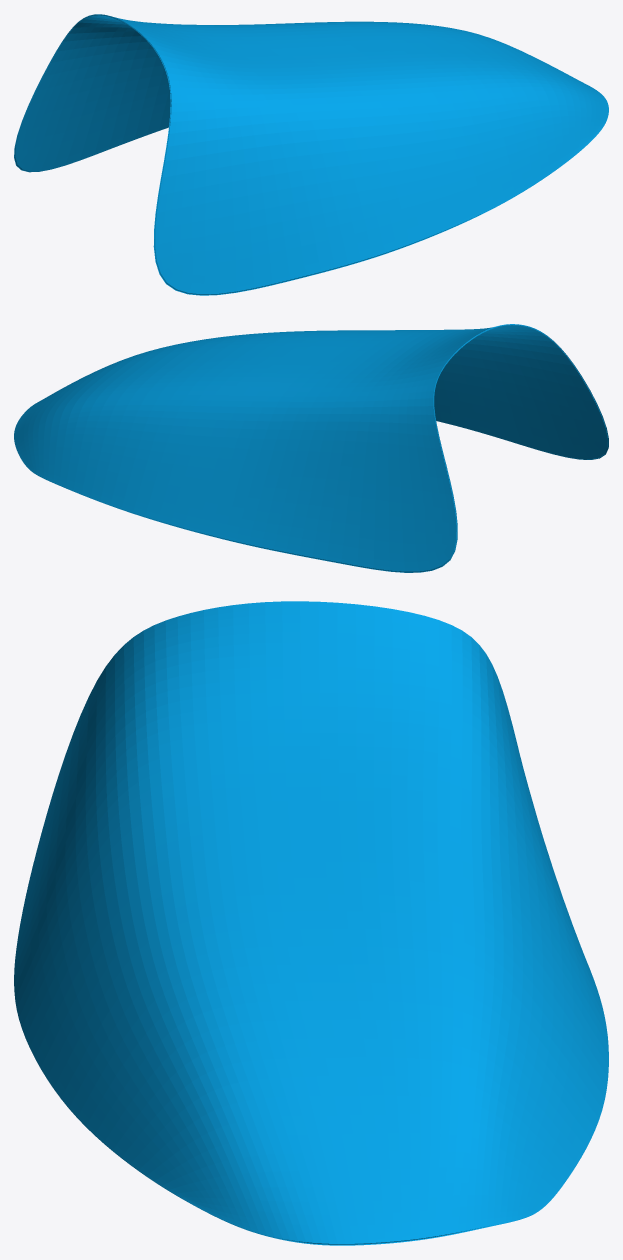
The model's file is frontRightBlue.obj.
3 renders of one model, top to bottom at view 1: azimuth 30°, elevation 25°; view 2: azimuth 150°, elevation 25°; view 3: azimuth 270°, elevation 25°, orthographic. The views are drawn at different scales.
Parts seen in each view (by area): view 1: Plane; view 2: Plane; view 3: Plane.
Part boxes in pixels (x1,y1,x2,y2): Plane: (14,14,608,295); Plane: (14,324,608,572); Plane: (14,601,608,1245).
Size of the model in its own units: 14.6 by 5.14 by 9.
1 material, 1 textured.
